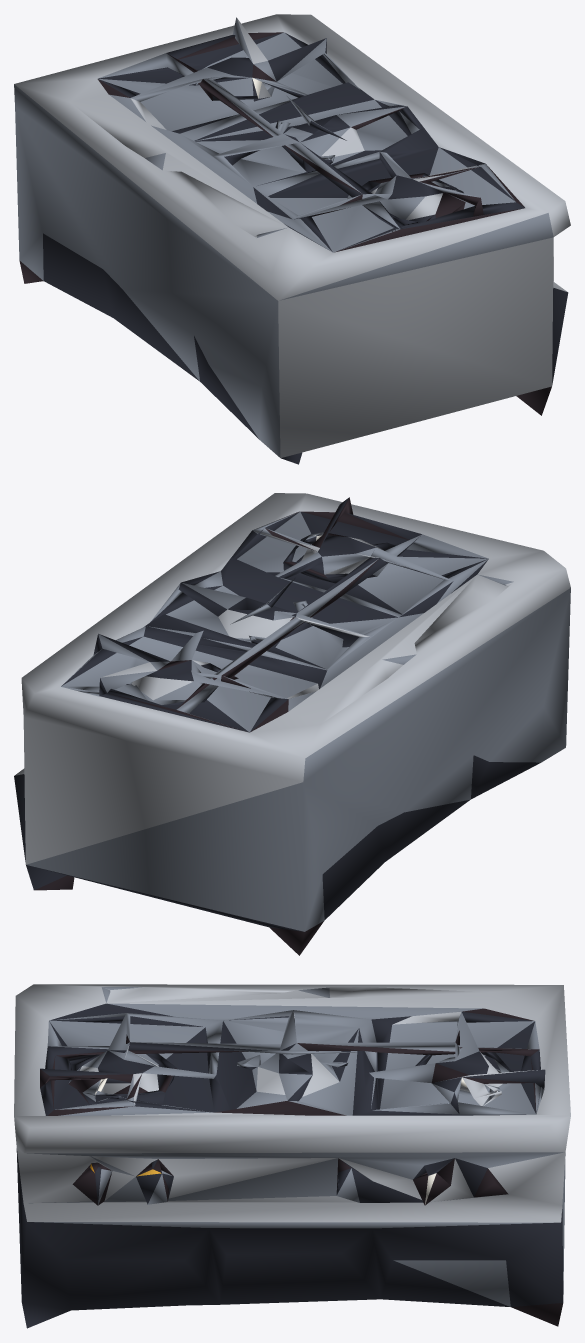
Rendered from SM_griddle_stove.glb.
3 renders of one model, top to bottom at view 1: azimuth 30°, elevation 25°; view 2: azimuth 150°, elevation 25°; view 3: azimuth 270°, elevation 25°, orthographic. The views are drawn at different scales.
Visible parts, largest first — view 1: SM_griddle_stove; view 2: SM_griddle_stove; view 3: SM_griddle_stove.
Boxes of the visible parts, x1,y1,x2,y2 form: SM_griddle_stove: (14, 14, 570, 464); SM_griddle_stove: (14, 493, 570, 955); SM_griddle_stove: (14, 984, 570, 1328).
Bounding box in the file's own units: 0.6965 × 0.5 × 1.08.
1 material, 1 textured.
